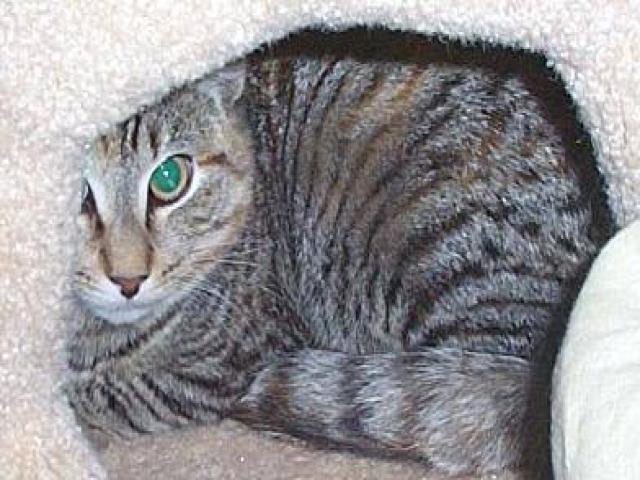cat: (50, 22, 621, 473)
